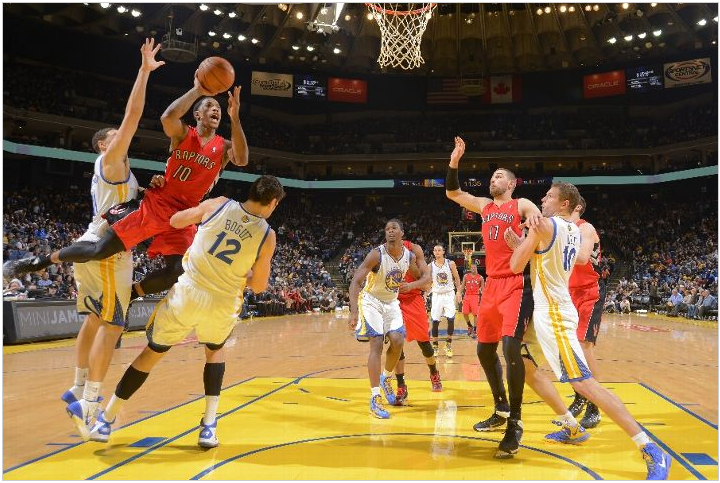ball: (196, 56, 235, 93)
basket: (364, 1, 438, 69)
player: (94, 174, 293, 452), (12, 87, 255, 290), (532, 182, 661, 483), (75, 37, 163, 428), (442, 139, 544, 461), (350, 221, 413, 419), (388, 227, 438, 405), (425, 245, 460, 358), (460, 261, 487, 337)
